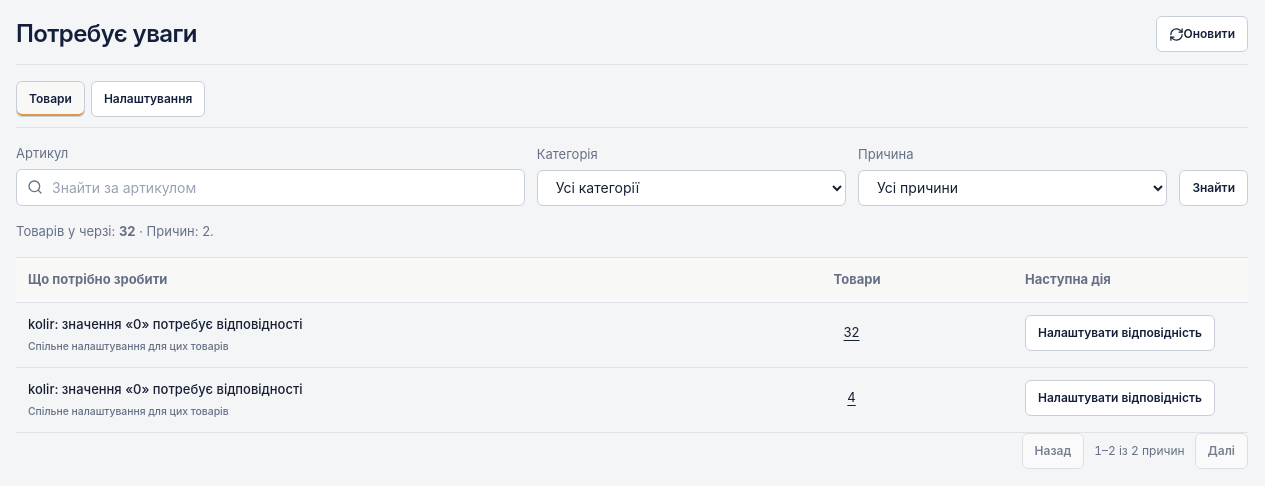
Test: keeps every server-provided problem category selectable after a category-filtered group response
Select "Кулони" in the dropdown labelled "Категорія" at (691, 188), box [537, 170, 846, 206]
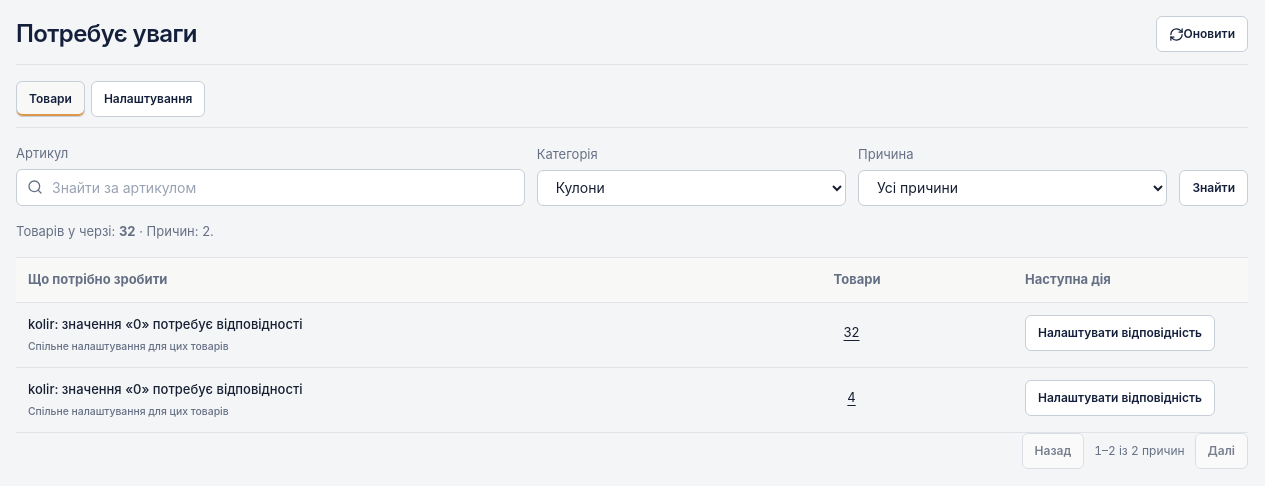
Click the button "Знайти" at (1214, 188), box [1179, 170, 1248, 206]
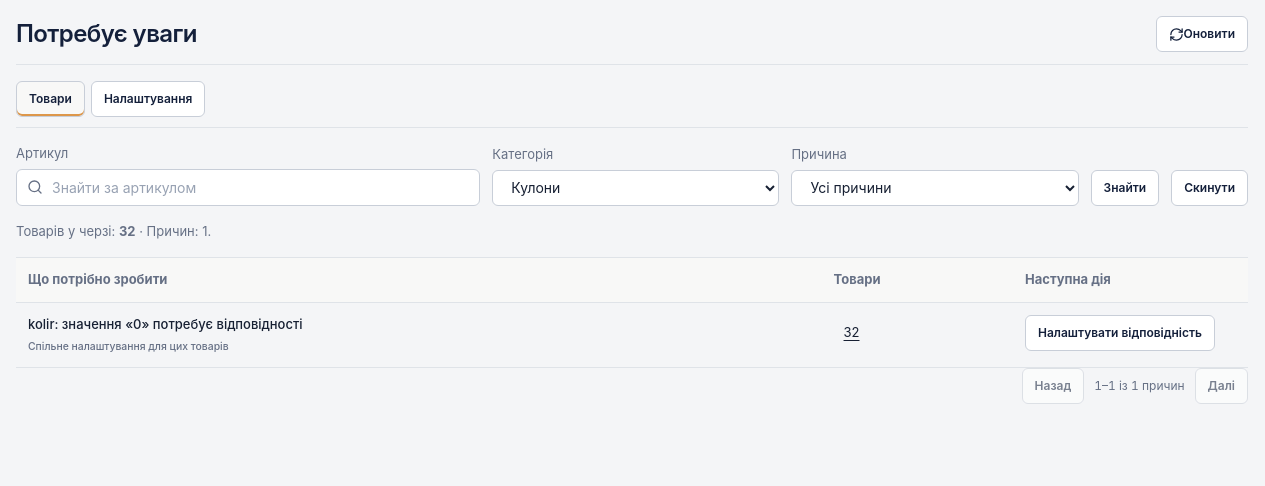
Check: the element named "Причини проблем" is shown, box [16, 257, 1248, 404]
Check: the dropdown labelled "Категорія" shows "Кулони"
Select "Свічки" in the dropdown labelled "Категорія" at (636, 188), box [492, 170, 779, 206]
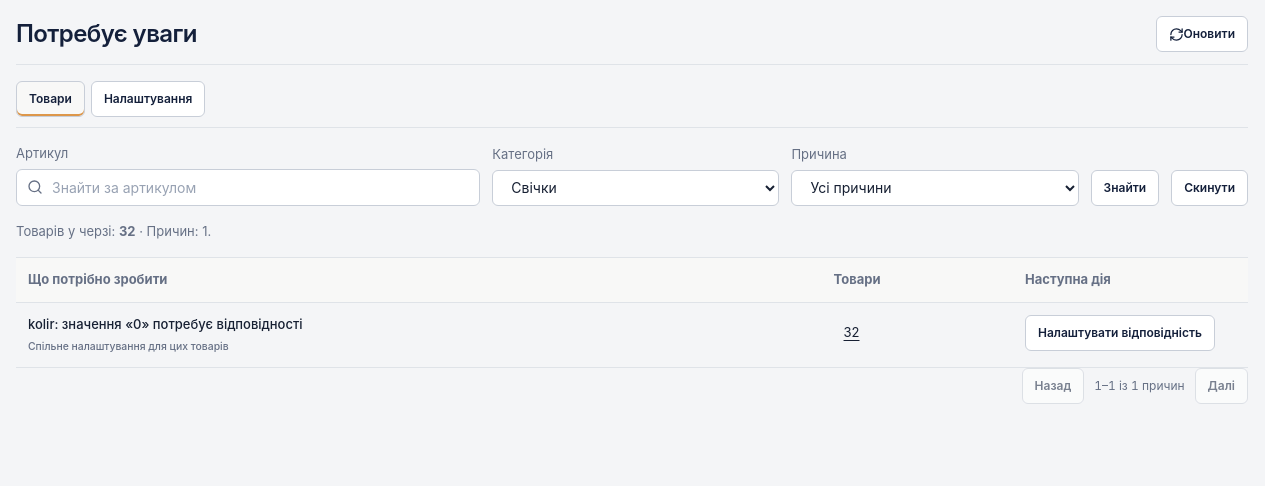
Click the button "Знайти" at (1125, 188), box [1091, 170, 1159, 206]
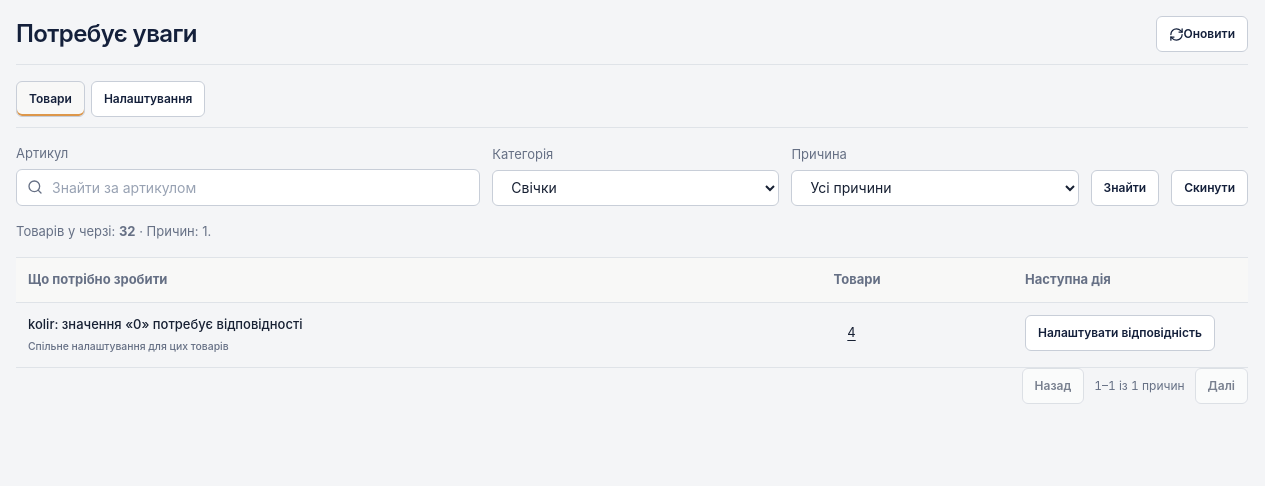
Check: the dropdown labelled "Категорія" shows "Свічки", box [492, 170, 779, 206]
Check: the button "4" is shown, box [834, 314, 870, 350]
